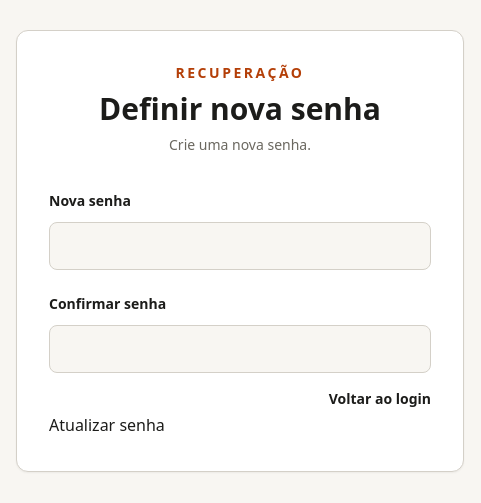
Scenario: ResetPasswordPage › rejects a password shorter than the shared policy minimum
The image size is (481, 503).
Type "short1" into the password field labelled "Nova senha" at (240, 246), box [49,222,431,270]
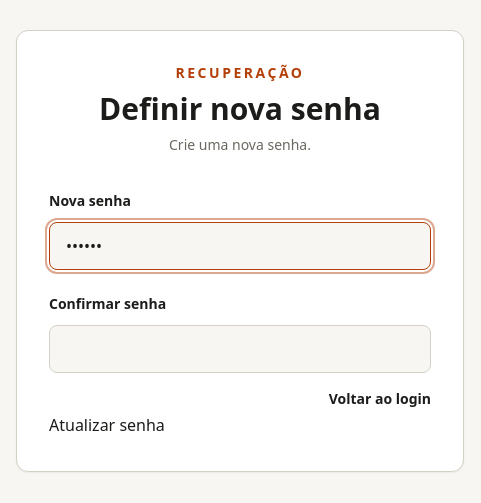
Type "short1" into the password field labelled "Confirmar senha" at (240, 349), box [49,325,431,373]
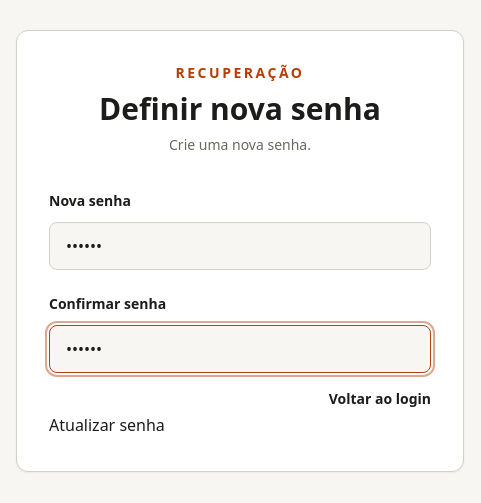
Click the button "Atualizar senha" at (107, 426), box [49,412,165,439]
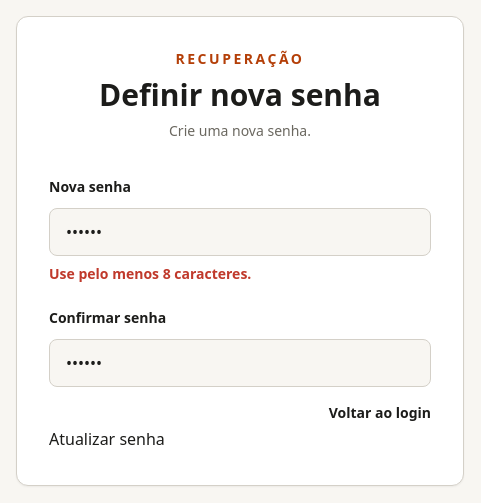
Expected: the text "Use pelo menos 8 caracteres." is shown, [49,264,251,283]
